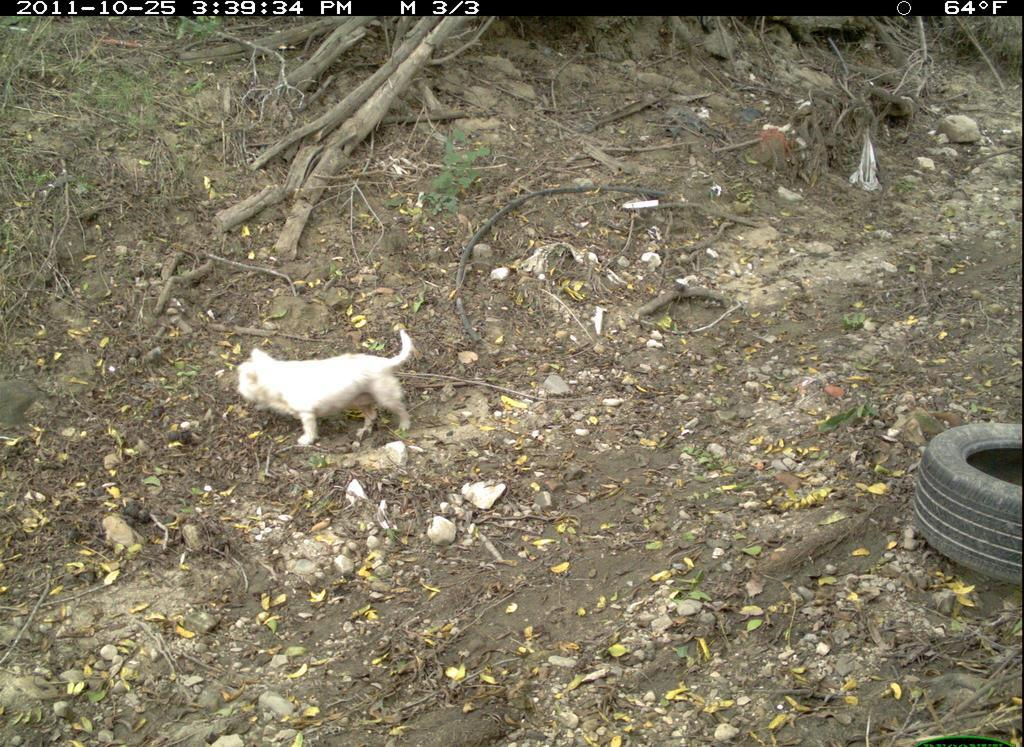dog: (225, 315, 451, 463)
